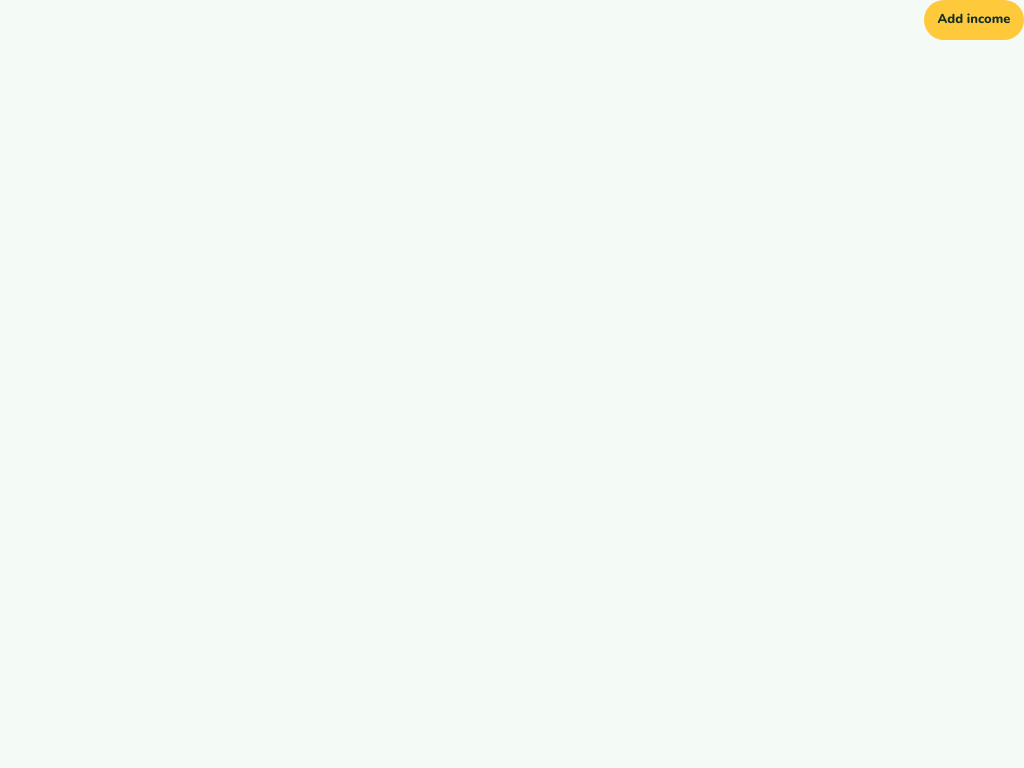
Test case: payday checklist › lists gross pay and every deduction ticked, and what lands in the bank
Click the button "Add income".
click(974, 20)  # box [924,0,1023,40]
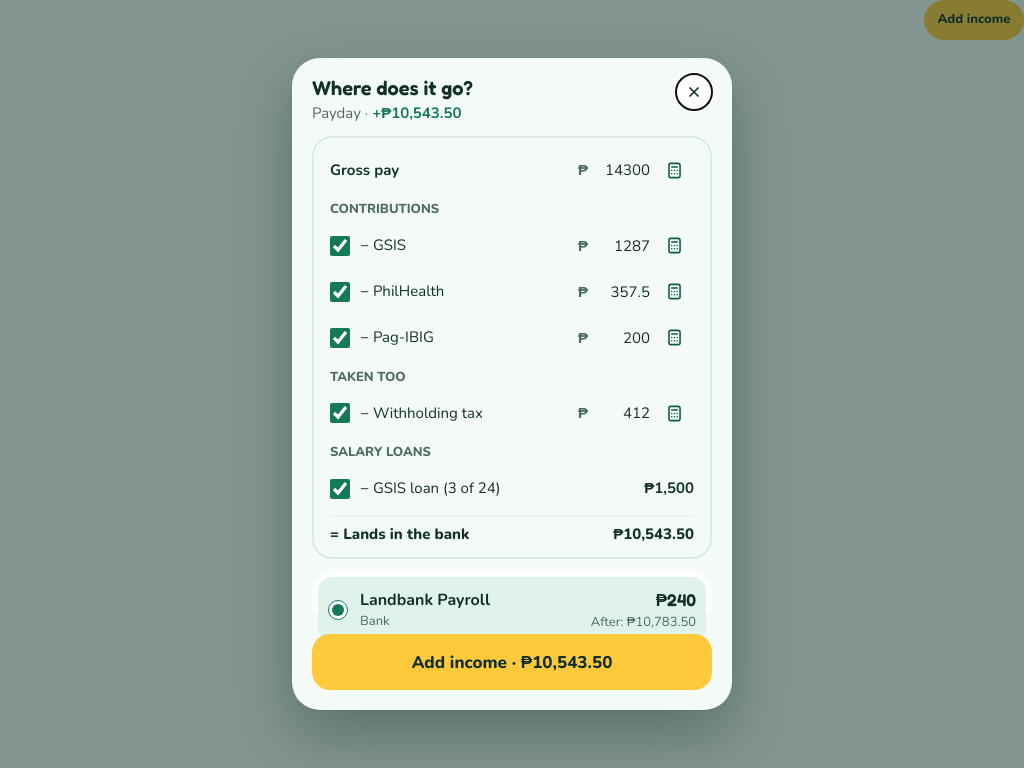
Expected: the field labelled "Gross pay" holds "14300", [566,150,694,190]
Expected: the text "₱10,543.50" is shown, [613,523,694,545]
